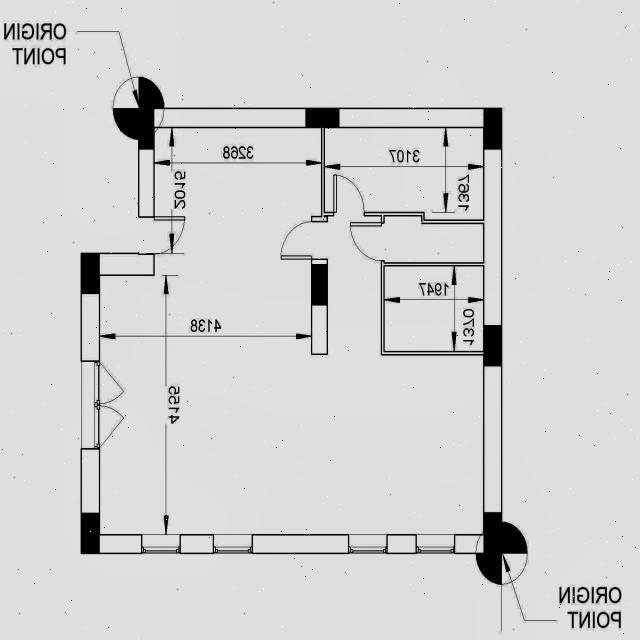Column: (78, 511, 102, 556), (79, 250, 101, 298), (480, 324, 504, 368), (482, 105, 504, 151), (304, 105, 342, 130), (482, 511, 503, 555), (136, 105, 156, 151), (310, 262, 330, 306)
Door: (277, 220, 329, 262), (142, 213, 190, 258), (348, 221, 388, 265), (331, 174, 368, 218)
Window: (78, 356, 126, 454), (140, 530, 182, 556), (414, 532, 457, 557), (347, 532, 389, 556), (212, 532, 254, 556)
